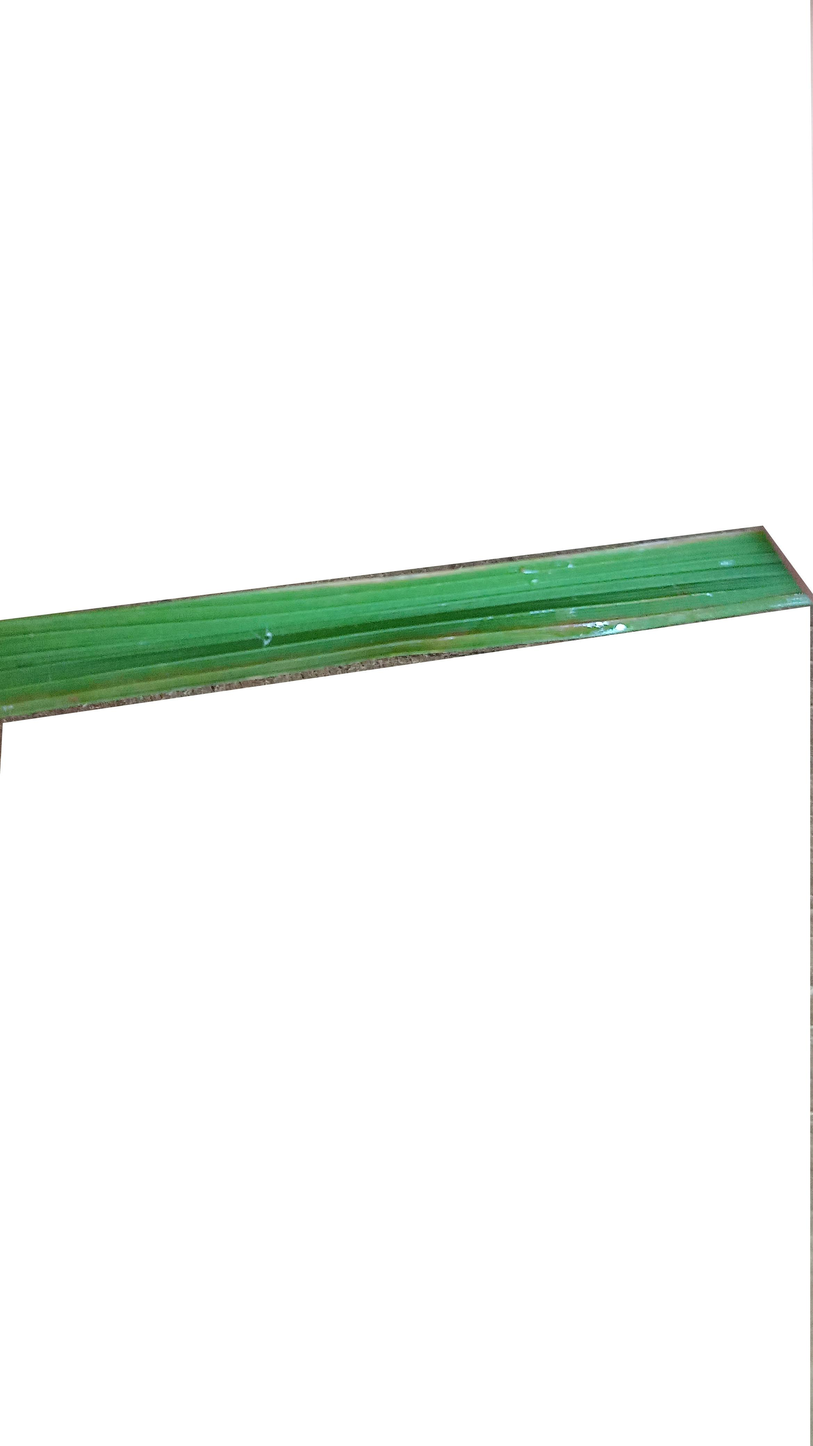Healthy: (0, 531, 813, 721)
